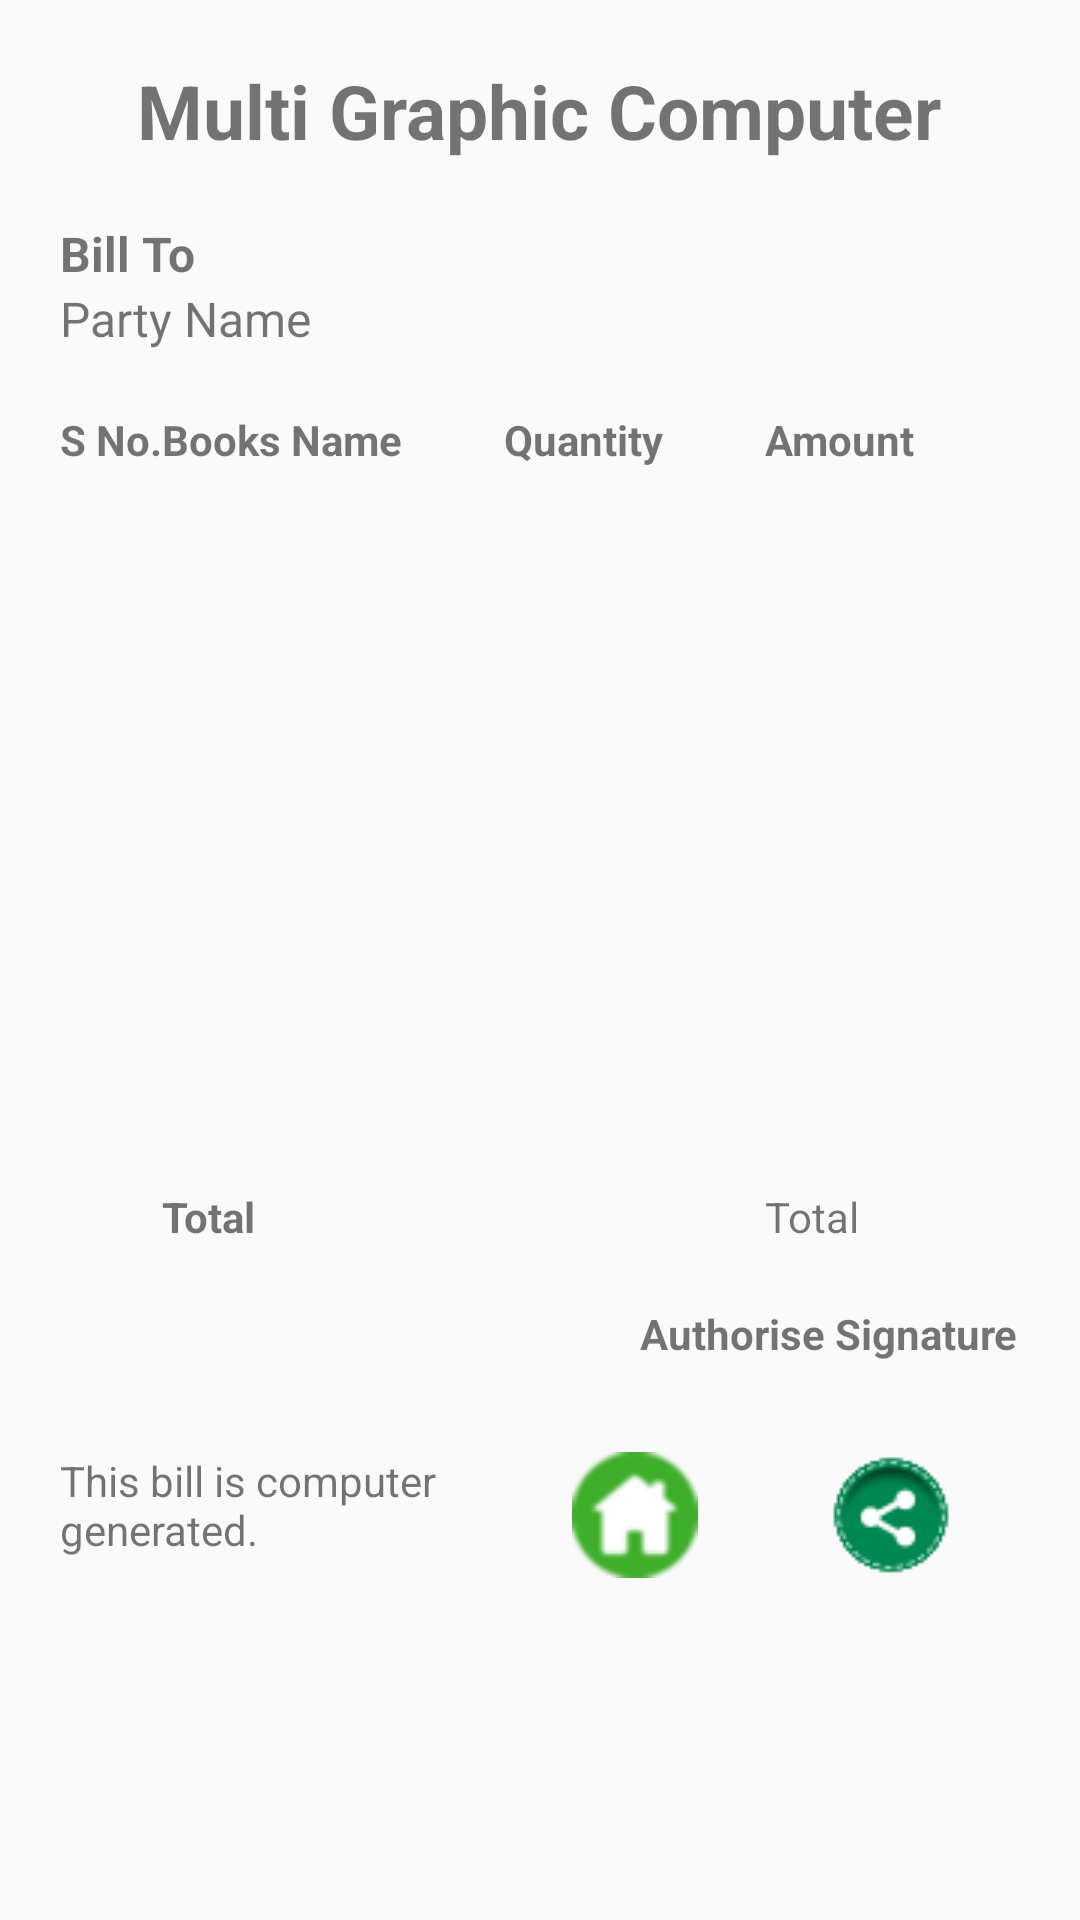

Locate icon controls on the screen. Image size 1080×1920, boxes as {"x1": x1, "y1": y1, "x2": x2, "y2": y2}.
homeicon: {"x1": 572, "y1": 1452, "x2": 698, "y2": 1578}
shareicon: {"x1": 833, "y1": 1457, "x2": 949, "y2": 1573}
